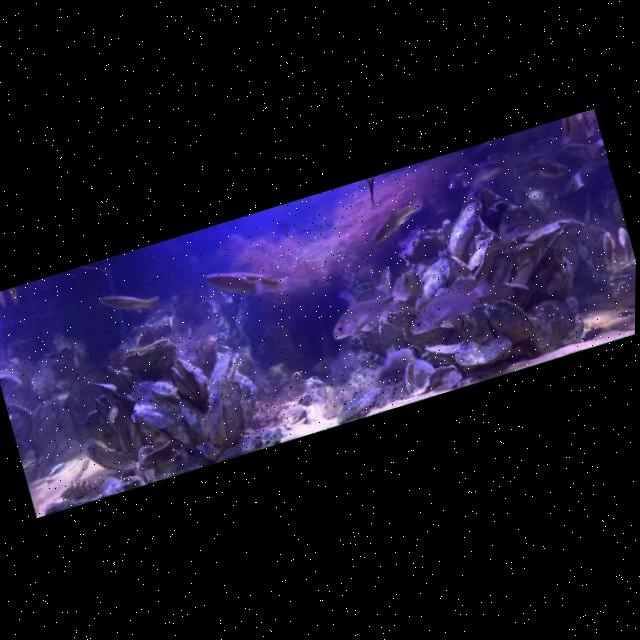Oyster-Closed: (127, 369, 196, 462), (425, 273, 496, 354), (403, 255, 461, 324), (437, 195, 494, 261), (450, 329, 516, 375), (526, 294, 577, 345), (461, 229, 507, 285), (216, 376, 255, 442), (197, 387, 235, 449), (522, 305, 564, 356), (423, 330, 479, 366), (176, 392, 212, 447), (402, 317, 452, 353), (435, 240, 473, 284), (92, 374, 127, 409)
Oyster-Indeterminate: (26, 395, 74, 463), (77, 404, 125, 462), (507, 217, 574, 256), (79, 430, 130, 478), (530, 223, 579, 272), (4, 396, 42, 458), (399, 224, 451, 268), (231, 368, 266, 429), (100, 356, 140, 401), (479, 243, 519, 287), (424, 360, 466, 395), (132, 442, 166, 485), (449, 269, 486, 307), (476, 275, 516, 310), (131, 317, 173, 349), (504, 256, 541, 291), (395, 266, 425, 303), (384, 305, 419, 332)
Oyster-Open: (479, 287, 538, 350), (120, 334, 181, 381), (168, 350, 213, 406), (347, 273, 395, 324), (398, 355, 441, 398), (203, 347, 246, 388), (0, 361, 31, 397), (295, 391, 316, 408)
